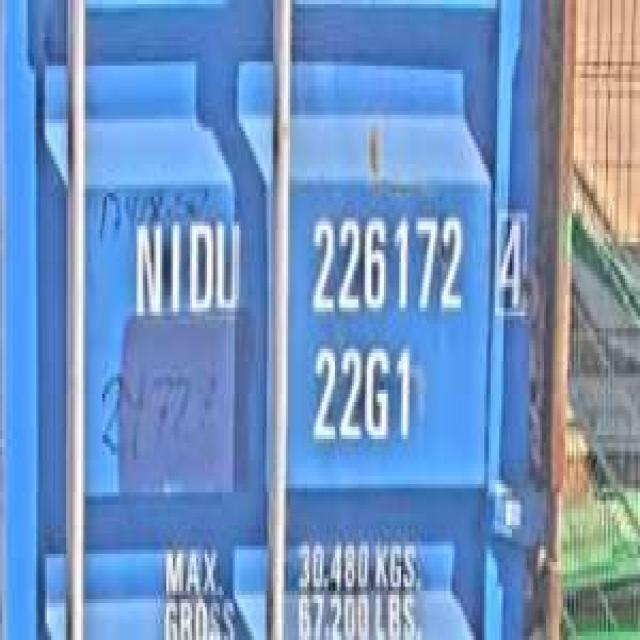dv: (491, 196, 531, 322)
owner: (128, 209, 245, 328)
serial: (305, 205, 467, 324)
size: (307, 336, 418, 452)
